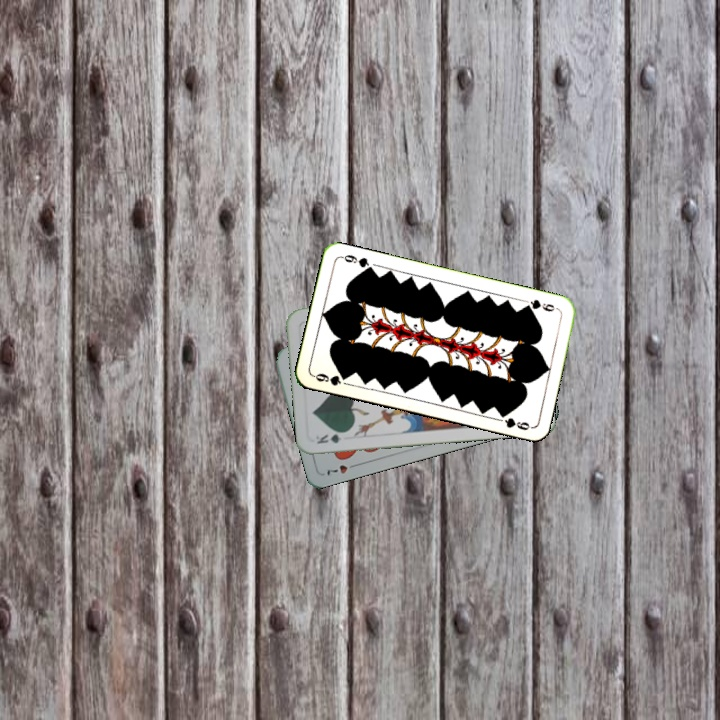G9: (309, 369, 351, 388), (520, 295, 561, 314)
GK: (312, 428, 351, 446)
H7: (321, 460, 361, 478)
